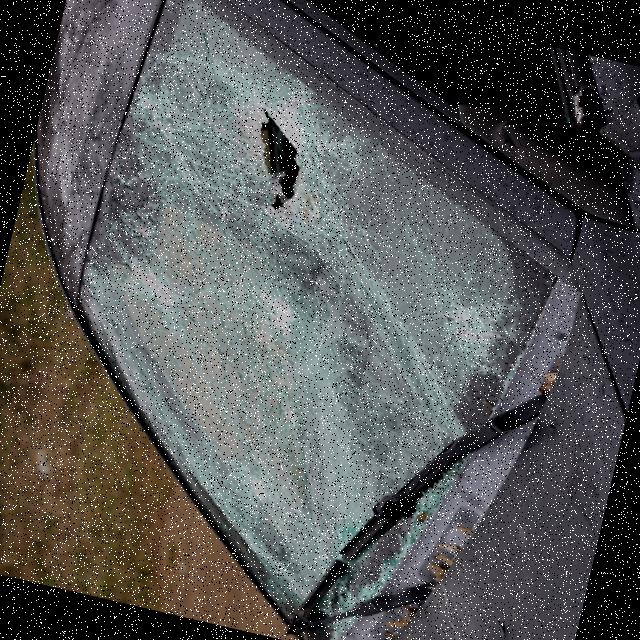Windshield: (59, 39, 500, 626)
